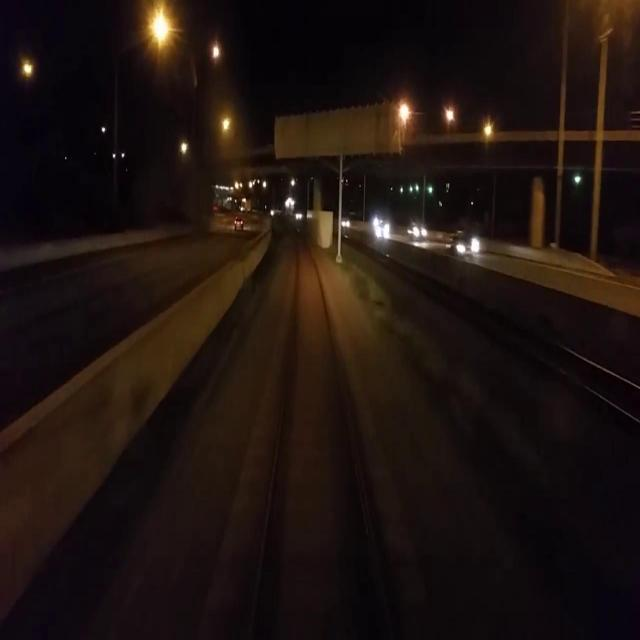rail-track: (341, 236, 640, 421), (261, 217, 375, 575)
